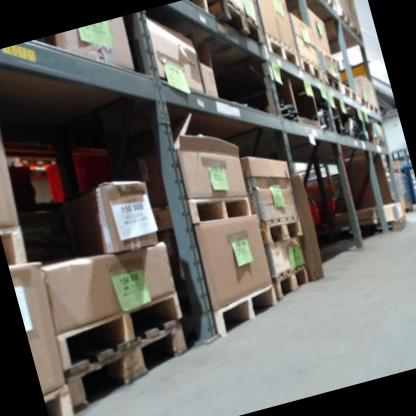pallet: (57, 318, 198, 412), (48, 287, 191, 372), (145, 178, 256, 242), (206, 283, 284, 338), (205, 0, 265, 59), (263, 25, 304, 79), (270, 262, 314, 304), (257, 211, 305, 246), (358, 213, 413, 243), (42, 385, 73, 416), (300, 53, 324, 91), (321, 66, 345, 100), (173, 0, 209, 22), (340, 81, 361, 109), (335, 3, 353, 30), (357, 91, 372, 116), (319, 0, 339, 18)
